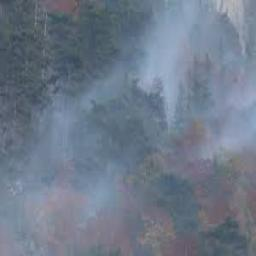Low smoke: (136, 0, 256, 171)
